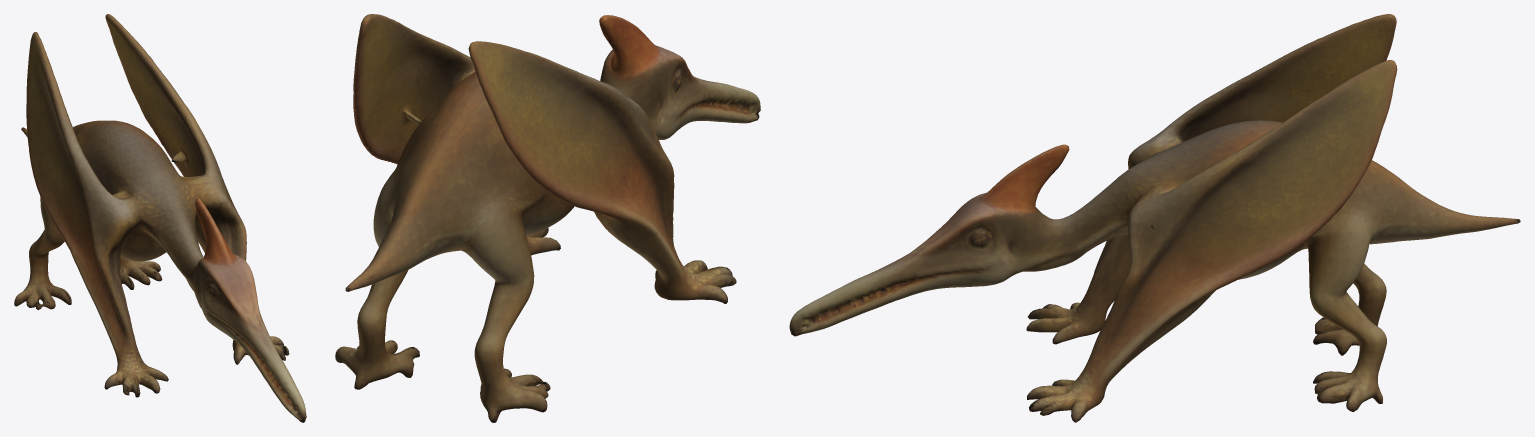
The picture shows the model from 3 angles, left to right: view 1: azimuth 30°, elevation 25°; view 2: azimuth 150°, elevation 25°; view 3: azimuth 270°, elevation 25°; orthographic projection. The views are drawn at different scales.
Parts seen in each view (by area): view 1: world; view 2: world; view 3: world.
Part boxes in pixels (bbox=[...]): world: bbox=[14, 14, 306, 422]; world: bbox=[335, 14, 760, 422]; world: bbox=[789, 14, 1520, 422].
Size of the model in its own units: 0.1935 by 0.27 by 0.53.
1 material, 1 textured.
